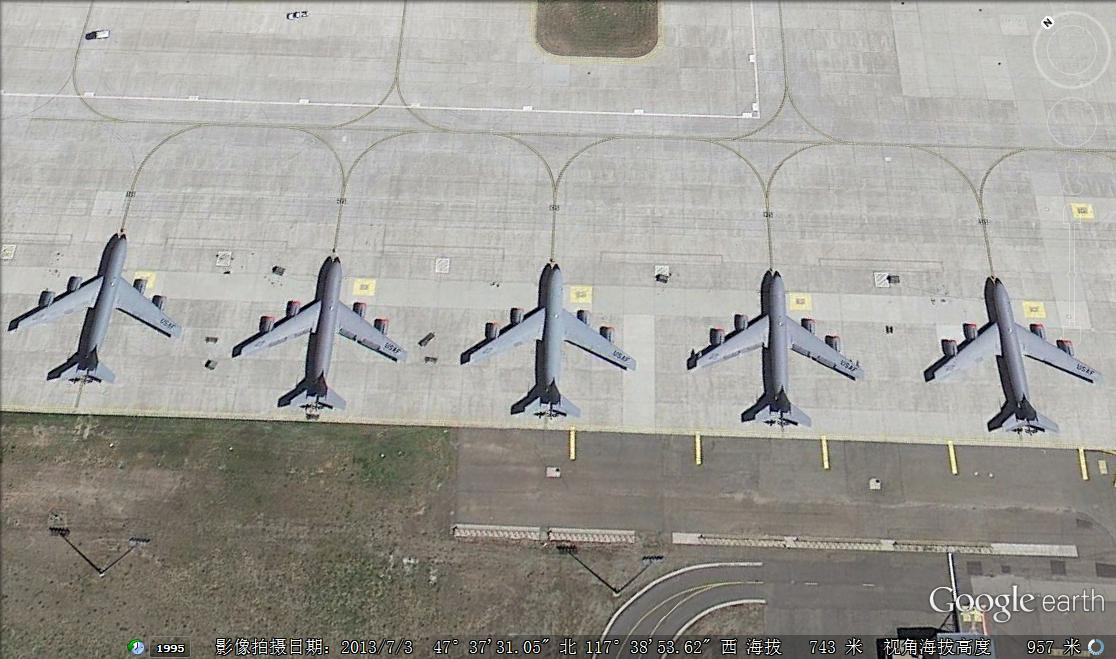KC-135: (457, 255, 640, 422), (685, 266, 869, 431), (919, 270, 1095, 434), (234, 249, 405, 413), (15, 231, 176, 390)
